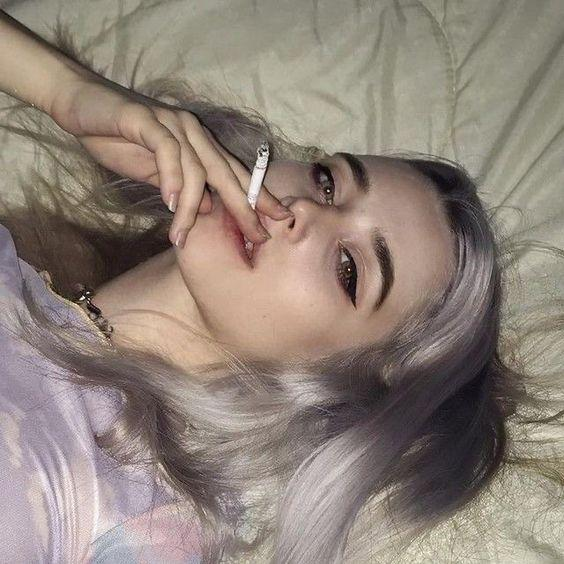cigarette: (247, 144, 269, 208)
